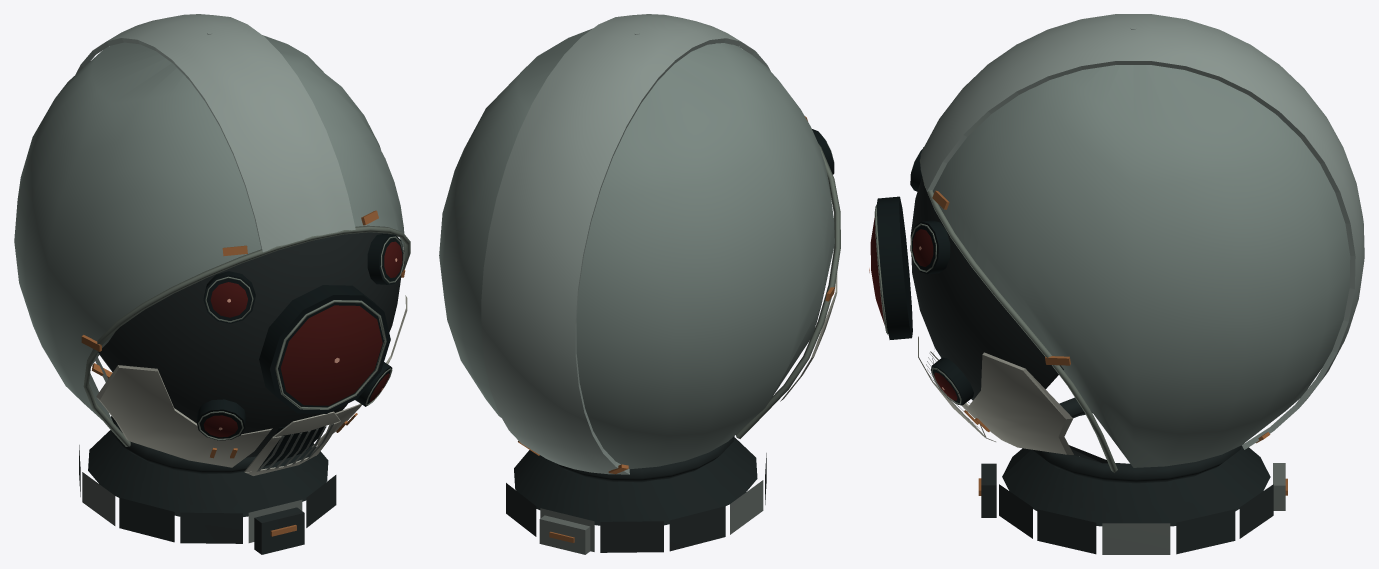
Rendered from hex_witness_d0_lod2.glb.
The picture shows the model from 3 angles, left to right: view 1: azimuth 30°, elevation 25°; view 2: azimuth 150°, elevation 25°; view 3: azimuth 270°, elevation 25°; orthographic projection. The views are drawn at different scales.
Visible parts, largest first — view 1: DISTANCE_SURFACE; view 2: DISTANCE_SURFACE; view 3: DISTANCE_SURFACE.
Part boxes in pixels (x1,y1,x2,y2): DISTANCE_SURFACE: (14,14,410,554); DISTANCE_SURFACE: (439,14,840,554); DISTANCE_SURFACE: (869,14,1364,554).
Size of the model in its own units: 0.2786 by 0.379 by 0.3553.
